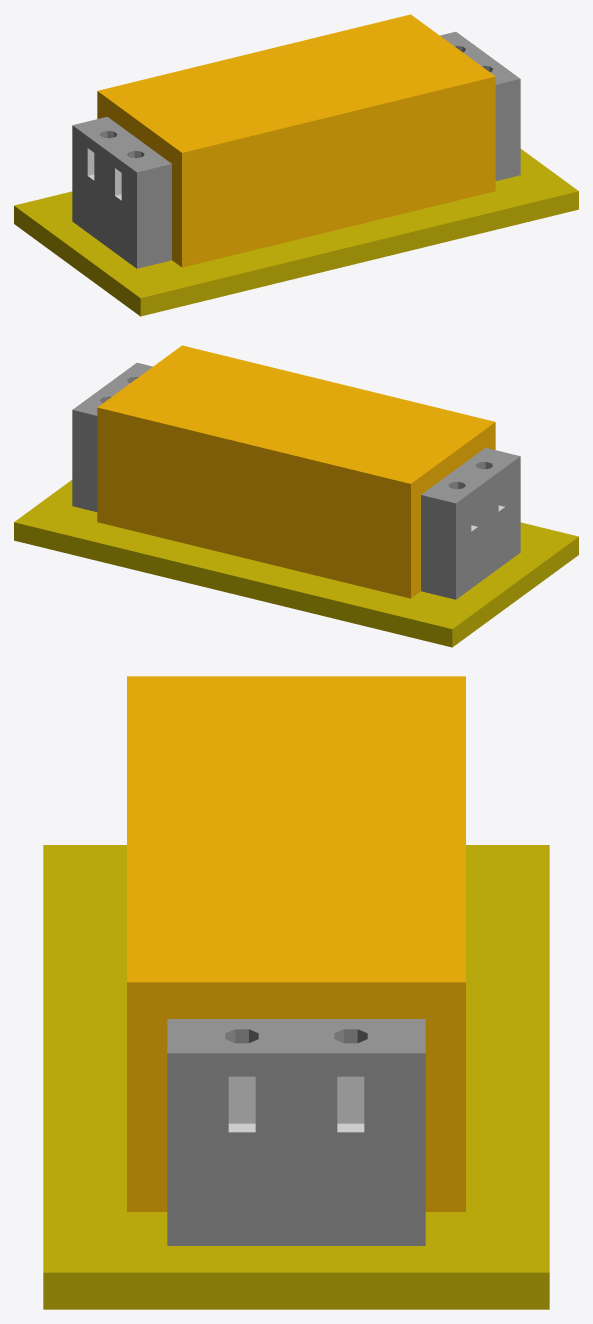
Rendered from epe_compact_relay.dae.
3 views of the same model, one above another, from view 1: azimuth 30°, elevation 25°; view 2: azimuth 150°, elevation 25°; view 3: azimuth 270°, elevation 25° (orthographic). The views are drawn at different scales.
Visible parts, largest first — view 1: compact_relay; view 2: compact_relay; view 3: compact_relay.
Part boxes in pixels (bbox=[...]): compact_relay: bbox=[14, 14, 578, 316]; compact_relay: bbox=[14, 345, 578, 647]; compact_relay: bbox=[43, 676, 549, 1309].
Bounding box in the file's own units: 0.5 × 0.25 × 0.145.
